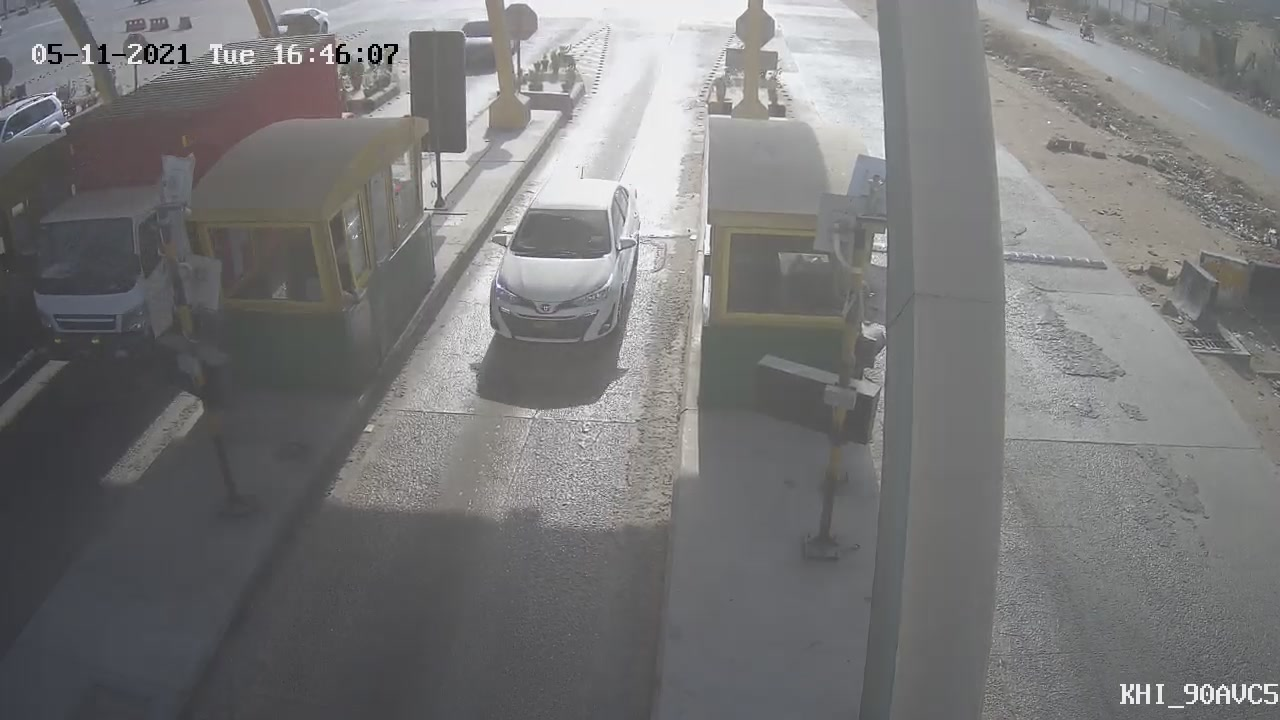F1: (466, 155, 663, 375)
